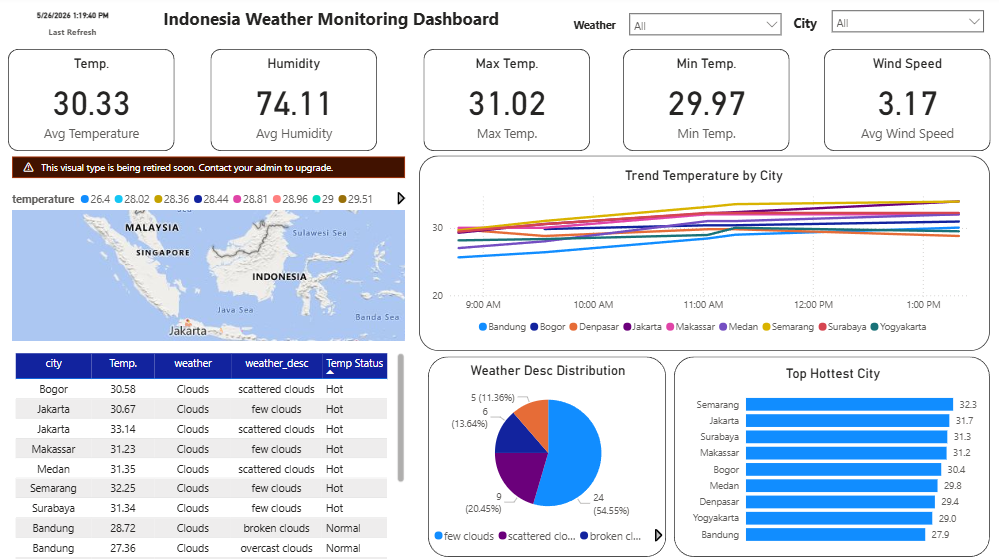

What the dashboard file says about the page in this screenshot:
{"tool":"powerbi","page":{"name":"Page 1","canvas":[1280,720],"ordinal":0},"visuals":[{"type":"slicer","fields":{"Values":["weather_history.city"]},"box":[1054.5,9.4,211.7,49.1],"z":0},{"type":"shape","box":[281.6,67.3,209.8,128.5],"z":0,"group":"g3"},{"type":"shape","box":[549.4,67.3,209.8,128.5],"z":0,"group":"g2"},{"type":"shape","box":[800.5,67.3,209.8,128.5],"z":0,"group":"g5"},{"type":"shape","box":[1054.5,67.3,209.8,128.5],"z":0,"group":"g6"},{"type":"shape","box":[26.5,68,209.8,128.5],"z":0,"group":"g4"},{"type":"shape","box":[544.9,202.6,719.3,246.4],"z":0,"group":"g1"},{"type":"card","title":"Humidity","fields":{"Values":["Avg(weather_history.humidity)"]},"box":[291,74.9,190.9,113.4],"z":1000,"group":"g3"},{"type":"card","title":"Max Temp.","fields":{"Values":["Avg(weather_history.temp_max)"]},"box":[558.8,74.9,190.9,113.4],"z":1000,"group":"g2"},{"type":"card","title":"Min Temp.","fields":{"Values":["Avg(weather_history.temp_min)"]},"box":[809.9,74.9,190.9,113.4],"z":1000,"group":"g5"},{"type":"card","title":"Wind Speed","fields":{"Values":["Avg(weather_history.wind_speed)"]},"box":[1063.9,74.9,190.9,113.4],"z":1000,"group":"g6"},{"type":"card","title":"Temp.","fields":{"Values":["Avg(weather_history.temperature)"]},"box":[35.9,75.6,190.9,113.4],"z":1000,"group":"g4"},{"type":"lineChart","title":"Trend Temperature by City","fields":{"Category":["weather_history.datetime.Variation.Date Hierarchy.Day"],"Y":["Avg(weather_history.temperature)"],"Series":["weather_history.city"]},"box":[555.4,217.5,695.5,218.9],"z":1000,"group":"g1"},{"type":"shape","box":[866.3,456.1,397.9,252.5],"z":1000},{"type":"textbox","box":[1001.6,18.9,58.6,49.1],"z":2000},{"type":"slicer","fields":{"Values":["weather_history.weather"]},"box":[798.7,13.1,211.7,49.1],"z":3000},{"type":"textbox","box":[725.7,22.7,79.4,49.1],"z":4000},{"type":"group","id":"g1","title":"Group 2","box":[544.9,202.6,719.3,246.4],"z":5000},{"type":"group","id":"g2","title":"Group 1","box":[549.4,67.3,209.7,128.6],"z":6000},{"type":"group","id":"g3","title":"Group 1","box":[281.6,67.3,209.7,128.6],"z":7000},{"type":"tableEx","fields":{"Values":["weather_history.city","Avg(weather_history.temperature)","weather_history.weather","weather_history.weather_desc","weather_history.Temp Status"]},"box":[30.6,445.4,500.5,274],"z":7000,"group":"g7"},{"type":"group","id":"g4","title":"Group 1","box":[26.5,68,209.8,128.5],"z":8000},{"type":"group","id":"g5","title":"Group 1","box":[800.5,67.3,209.7,128.6],"z":9000},{"type":"filledMap","title":"Location","fields":{"Y":["Avg(weather_history.latitude)"],"X":["Avg(weather_history.longitude)"],"Category":["weather_history.city"],"Series":["weather_history.temperature"]},"box":[26,199,505.1,237.2],"z":10000},{"type":"group","id":"g6","title":"Group 1","box":[1054.5,67.3,209.7,128.6],"z":11000},{"type":"group","id":"g7","title":"Group 3","box":[30.6,445.4,500.5,274],"z":12000},{"type":"shape","box":[555.6,456.1,300,252.5],"z":13000},{"type":"pieChart","title":"Weather Desc Distribution","fields":{"Y":["CountNonNull(weather_history.city)"],"Category":["weather_history.weather_desc"]},"box":[557.1,463.7,298.4,237.2],"z":14000},{"type":"clusteredBarChart","title":"Top Hottest City","fields":{"Category":["weather_history.city"],"Y":["Avg(weather_history.temperature)"]},"box":[877,466.8,378,234.2],"z":15000},{"type":"card","fields":{"Values":["weather_history.Last Refresh"]},"box":[30.6,9.2,154.6,49],"z":16000},{"type":"textbox","box":[211.2,9.2,443.8,49],"z":17000}]}

Visuals, with their boxes in screenshot pixels (x1, y1, x2, y2), scaled from the page's 1280x720 canvas onto the 999x559 screenshot:
slicer - weather_history.city: BBox(823, 7, 988, 45)
shape: BBox(220, 52, 384, 152)
shape: BBox(429, 52, 593, 152)
shape: BBox(625, 52, 789, 152)
shape: BBox(823, 52, 987, 152)
shape: BBox(21, 53, 184, 153)
shape: BBox(425, 157, 987, 349)
"Humidity" card: BBox(227, 58, 376, 146)
"Max Temp." card: BBox(436, 58, 585, 146)
"Min Temp." card: BBox(632, 58, 781, 146)
"Wind Speed" card: BBox(830, 58, 979, 146)
"Temp." card: BBox(28, 59, 177, 147)
"Trend Temperature by City" lineChart: BBox(433, 169, 976, 339)
shape: BBox(676, 354, 987, 550)
textbox: BBox(782, 15, 827, 53)
slicer - weather_history.weather: BBox(623, 10, 789, 48)
textbox: BBox(566, 18, 628, 56)
"Group 2" group: BBox(425, 157, 987, 349)
"Group 1" group: BBox(429, 52, 592, 152)
"Group 1" group: BBox(220, 52, 383, 152)
tableEx - weather_history.city x Avg(weather_history.temperature): BBox(24, 346, 415, 558)
"Group 1" group: BBox(21, 53, 184, 153)
"Group 1" group: BBox(625, 52, 788, 152)
"Location" filledMap: BBox(20, 155, 415, 339)
"Group 1" group: BBox(823, 52, 987, 152)
"Group 3" group: BBox(24, 346, 415, 558)
shape: BBox(434, 354, 668, 550)
"Weather Desc Distribution" pieChart: BBox(435, 360, 668, 544)
"Top Hottest City" clusteredBarChart: BBox(684, 362, 979, 544)
card - weather_history.Last Refresh: BBox(24, 7, 145, 45)
textbox: BBox(165, 7, 511, 45)
